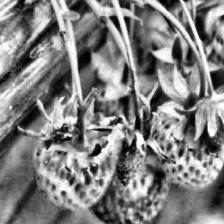Gray Mold: (111, 86, 177, 187)
